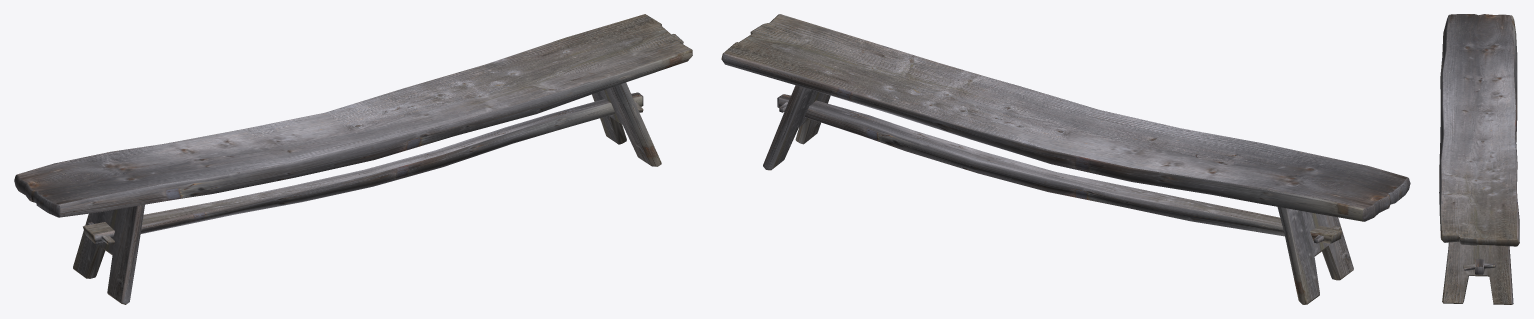
The model's file is SM_Bench_01_02.fbx.
The picture shows the model from 3 angles, left to right: view 1: azimuth 30°, elevation 25°; view 2: azimuth 150°, elevation 25°; view 3: azimuth 270°, elevation 25°; orthographic projection. The views are drawn at different scales.
Parts seen in each view (by area): view 1: sm_Bench_01_02_LOD0; view 2: sm_Bench_01_02_LOD0; view 3: sm_Bench_01_02_LOD0.
Part boxes in pixels (x1,y1,x2,y2): sm_Bench_01_02_LOD0: [14, 14, 692, 304]; sm_Bench_01_02_LOD0: [721, 14, 1410, 304]; sm_Bench_01_02_LOD0: [1439, 14, 1519, 304].
Size of the model in its own units: 54.53 by 366 by 63.85.
